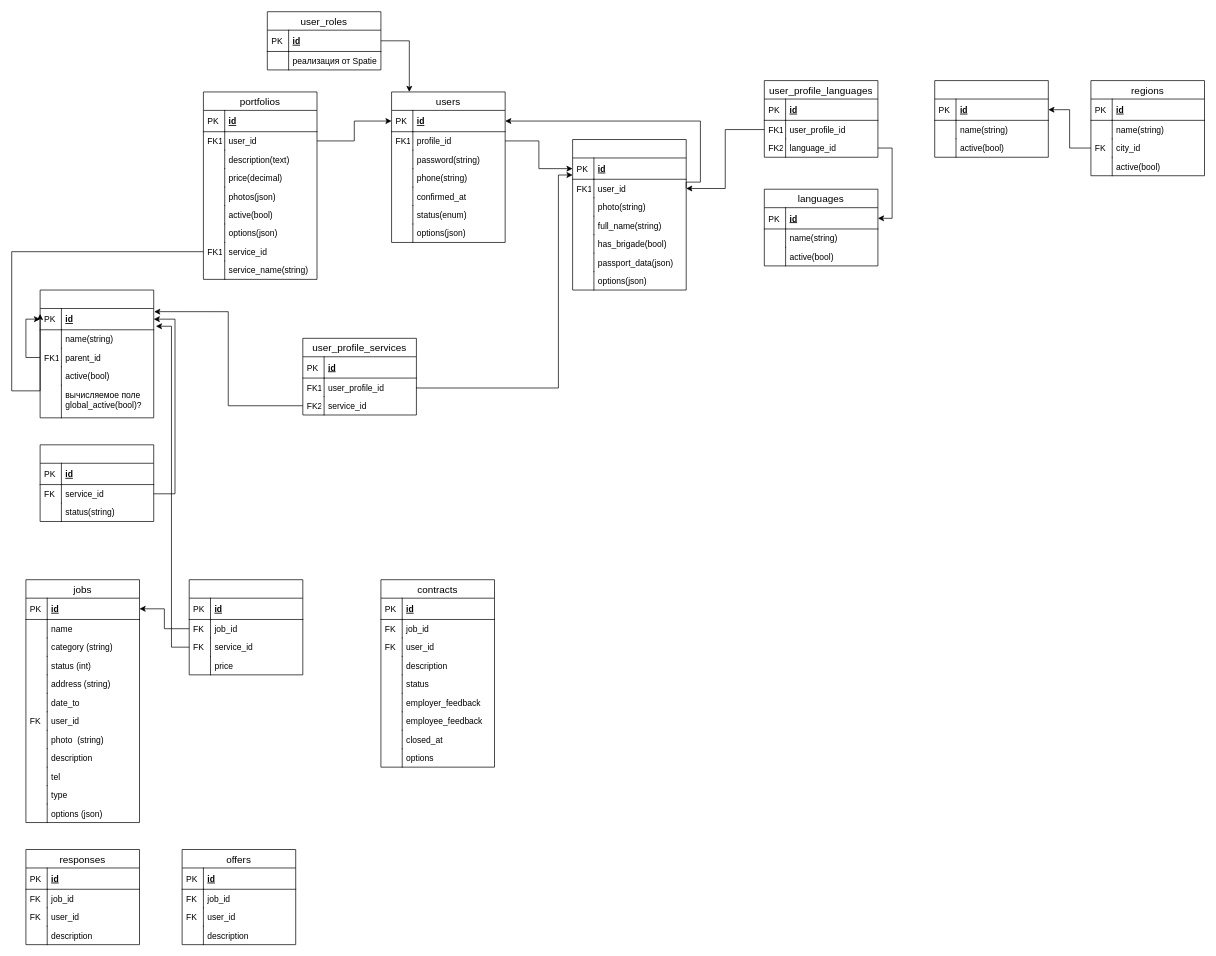
Some shapes in this 1216 by 956 pixel diagram are drawn without their labels. Each missing label, with the box of its shape:
cities: (934, 80, 1048, 157)
job_service: (189, 579, 303, 675)
review_ratings: (39, 444, 154, 521)
services: (39, 289, 154, 418)
user_profiles: (572, 139, 686, 290)
